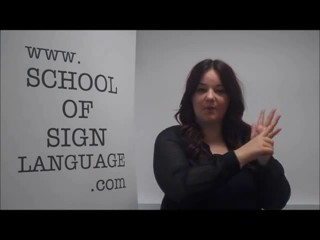O: (240, 106, 286, 162)
